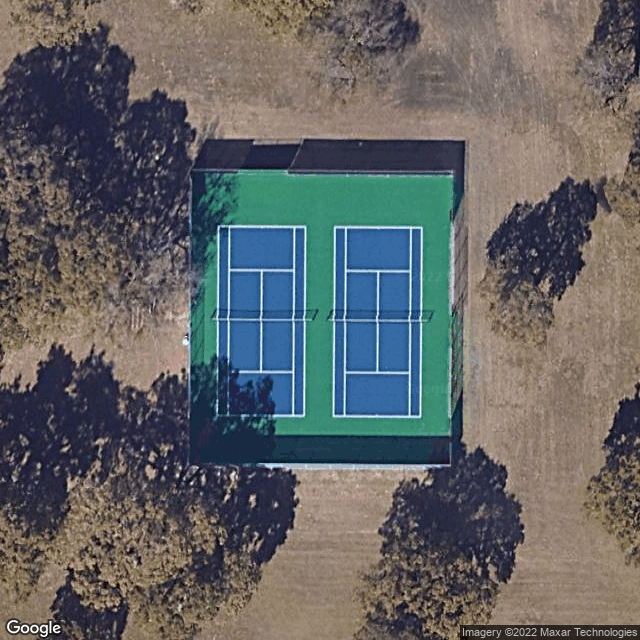Court: (331, 224, 423, 419), (216, 224, 306, 419)
